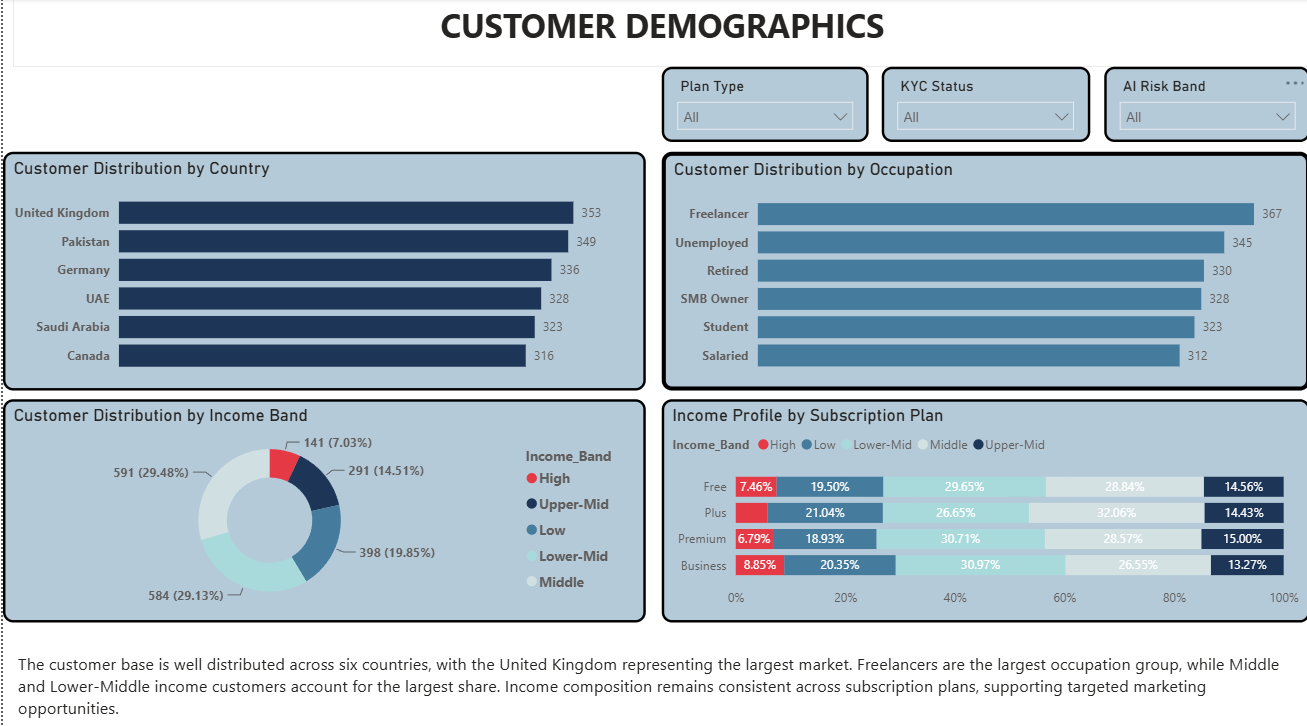

Layout of this report page (visuals, bound fields, positions):
{"tool":"powerbi","page":{"name":"Customer Demographics","canvas":[1280,720],"ordinal":1},"visuals":[{"type":"textbox","box":[9.8,0,1270.5,67.3],"z":0},{"type":"slicer","fields":{"Values":["Dim_Plan.Plan_Type"]},"box":[645,67.5,202.5,73.8],"z":1000},{"type":"slicer","fields":{"Values":["Fact_Customers.KYC_Status"]},"box":[860,67.5,203.8,73.8],"z":2000},{"type":"slicer","fields":{"Values":["Fact_Customers.AI_Risk_Band"]},"box":[1077.5,67.5,202.5,73.8],"z":3000},{"type":"clusteredBarChart","title":"Customer Distribution by Country","fields":{"Y":["Count(Fact_Customers.Customer_ID)"],"Category":["Fact_Customers.Country"]},"box":[0,150,628.8,233.8],"z":4000},{"type":"clusteredBarChart","title":"Customer Distribution by Occupation","fields":{"Category":["Fact_Customers.Occupation_Type"],"Y":["CountNonNull(Fact_Customers.Customer_ID)"]},"box":[645,150,635,233.8],"z":5000},{"type":"donutChart","title":"Customer Distribution by Income Band","fields":{"Category":["Fact_Customers.Income_Band"],"Y":["CountNonNull(Fact_Customers.Customer_ID)"]},"box":[0,392.5,628.8,218.8],"z":6000},{"type":"hundredPercentStackedBarChart","title":"Income Profile by Subscription Plan","fields":{"Y":["CountNonNull(Fact_Customers.Customer_ID)"],"Series":["Dim_Demographics.Income_Band"],"Category":["Fact_Customers.Plan_Type"]},"box":[645,392.5,635,218.8],"z":7000},{"type":"textbox","box":[9.8,634.7,1270.5,85.6],"z":8000}]}

Visuals, with their boxes in screenshot pixels (x1, y1, x2, y2), scaled from the page's 1280x720 canvas onto the 1307x726 screenshot:
textbox: <bbox>10, 0, 1306, 68</bbox>
slicer - Dim_Plan.Plan_Type: <bbox>659, 68, 865, 142</bbox>
slicer - Fact_Customers.KYC_Status: <bbox>878, 68, 1086, 142</bbox>
slicer - Fact_Customers.AI_Risk_Band: <bbox>1100, 68, 1306, 142</bbox>
"Customer Distribution by Country" clusteredBarChart: <bbox>0, 151, 642, 387</bbox>
"Customer Distribution by Occupation" clusteredBarChart: <bbox>659, 151, 1306, 387</bbox>
"Customer Distribution by Income Band" donutChart: <bbox>0, 396, 642, 616</bbox>
"Income Profile by Subscription Plan" hundredPercentStackedBarChart: <bbox>659, 396, 1306, 616</bbox>
textbox: <bbox>10, 640, 1306, 725</bbox>
